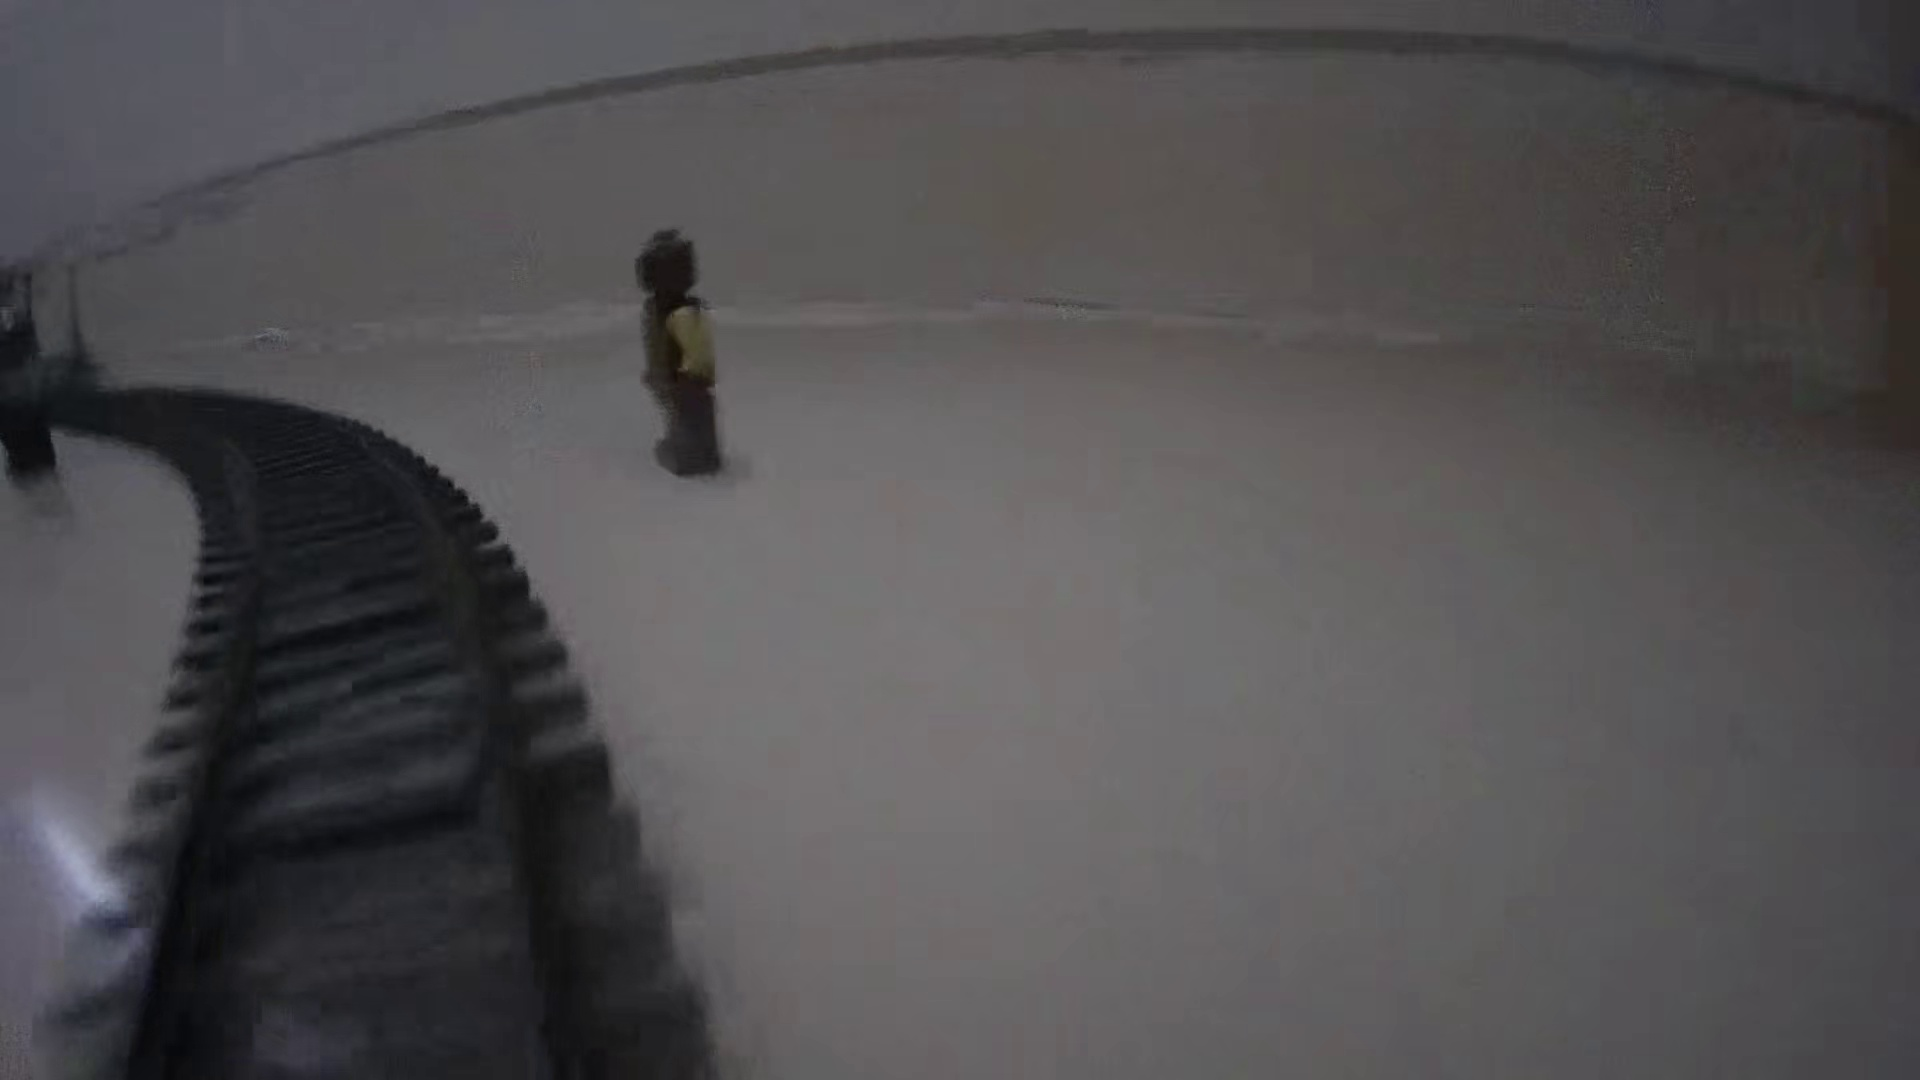people: (634, 224, 729, 481)
